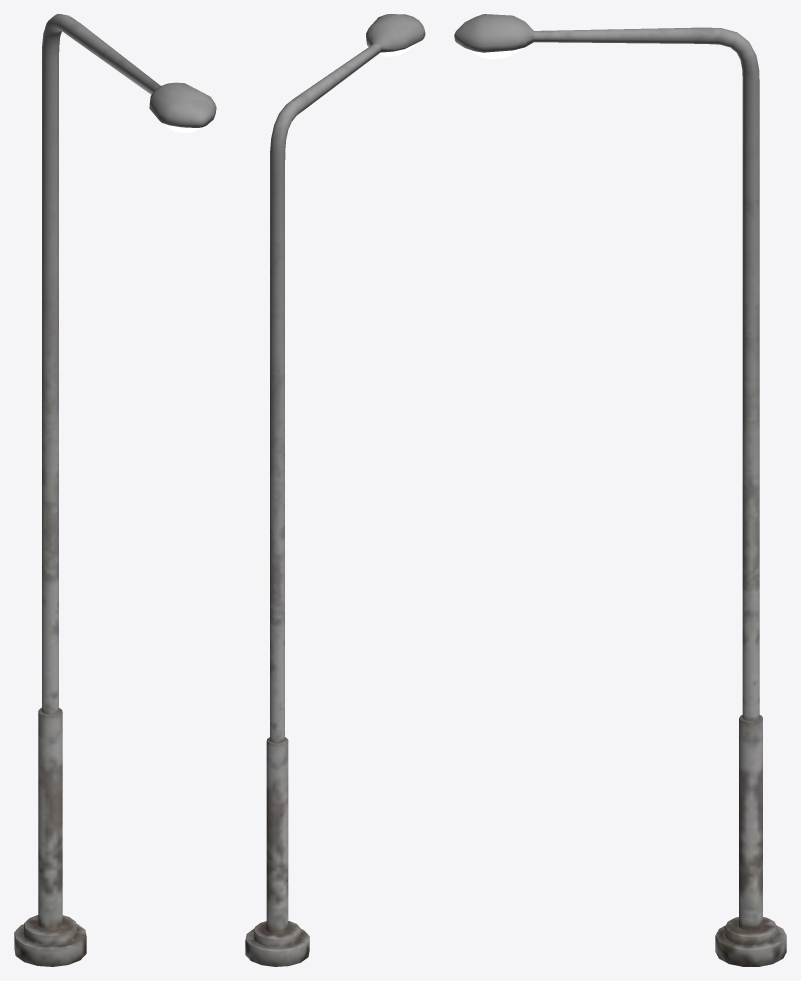
Rendered from street-lamp.glb.
The picture shows the model from 3 angles, left to right: view 1: azimuth 30°, elevation 25°; view 2: azimuth 150°, elevation 25°; view 3: azimuth 270°, elevation 25°; orthographic projection. The views are drawn at different scales.
Visible parts, largest first — view 1: lamp; view 2: lamp; view 3: lamp.
Part boxes in pixels (left/top/right/bottom): lamp: left=14, top=14, right=216, bottom=966; lamp: left=245, top=14, right=425, bottom=966; lamp: left=454, top=14, right=786, bottom=966.
Bounding box in the file's own units: 0.0674 × 1 × 0.3227.
2 materials, 1 textured.
